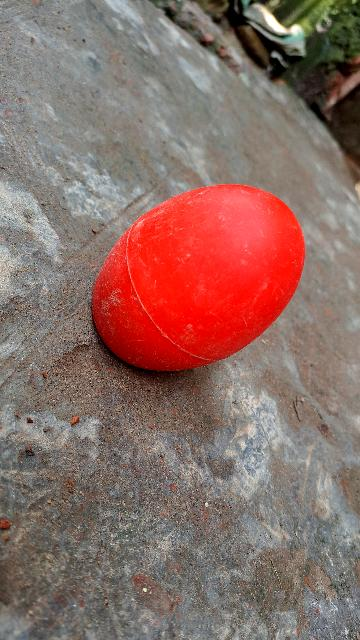hardplastic: (95, 178, 308, 380)
